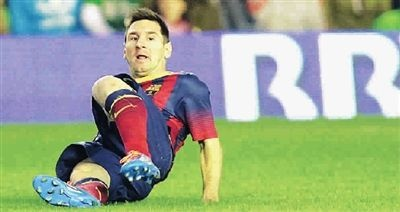falling: (9, 5, 232, 208)
